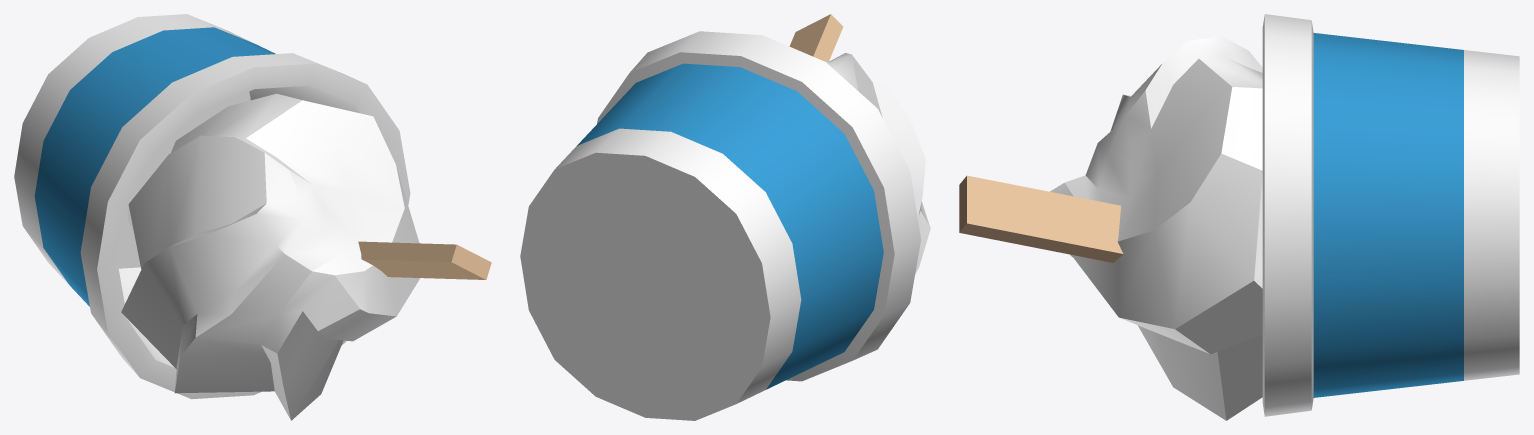
Rendered from icecream.fbx.
The picture shows the model from 3 angles, left to right: view 1: azimuth 30°, elevation 25°; view 2: azimuth 150°, elevation 25°; view 3: azimuth 270°, elevation 25°; orthographic projection. The views are drawn at different scales.
Parts seen in each view (by area): view 1: icecream; view 2: icecream; view 3: icecream.
Part boxes in pixels (x1,y1,x2,y2): icecream: [14, 14, 491, 420]; icecream: [520, 14, 930, 420]; icecream: [959, 14, 1519, 420].
Size of the model in its own units: 0.438 by 0.438 by 0.6167.
